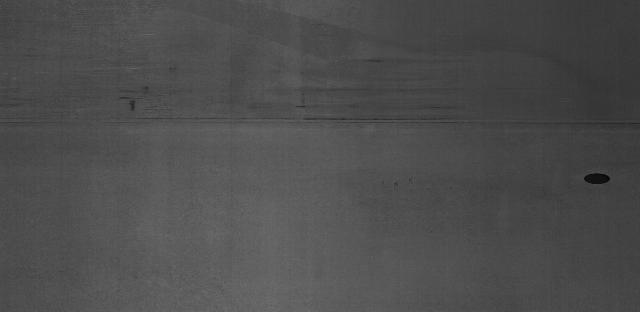punching_hole: (582, 169, 613, 189)
welding_line: (4, 110, 634, 135)
